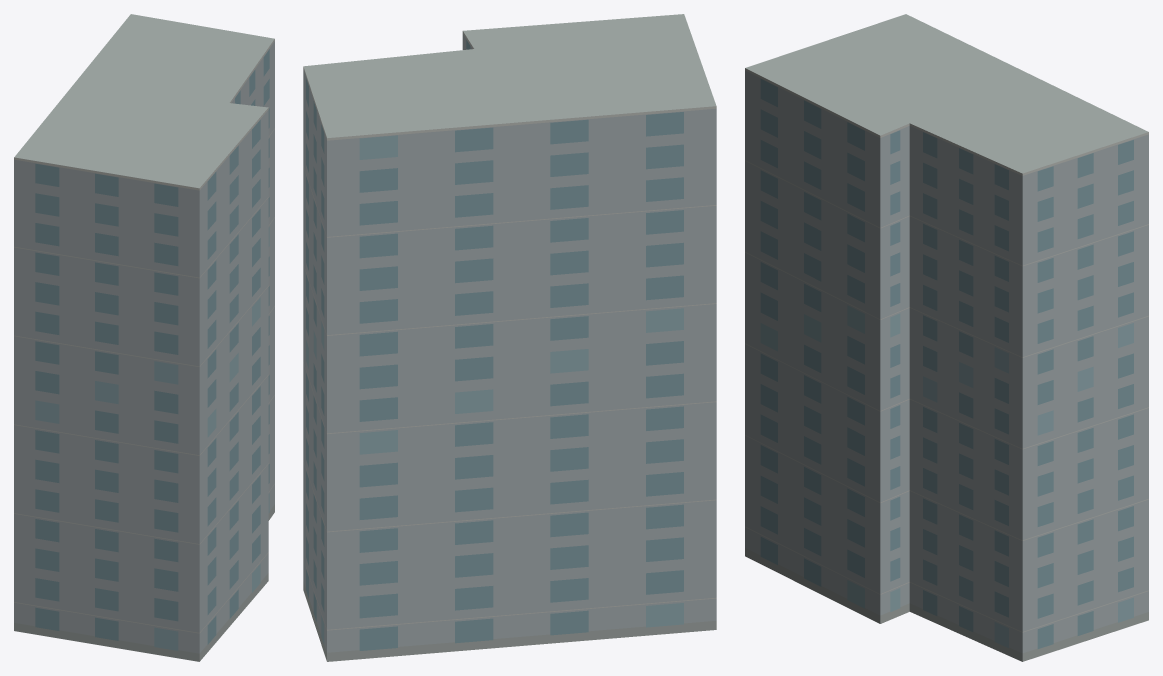
File: survey-upis-32719205.glb
The picture shows the model from 3 angles, left to right: view 1: azimuth 30°, elevation 25°; view 2: azimuth 150°, elevation 25°; view 3: azimuth 270°, elevation 25°; orthographic projection. The views are drawn at different scales.
Visible parts, largest first — view 1: survey-upis-32719205.tmp; view 2: survey-upis-32719205.tmp; view 3: survey-upis-32719205.tmp.
Boxes of the visible parts, bbox=[...] form: survey-upis-32719205.tmp: bbox=[14, 14, 274, 661]; survey-upis-32719205.tmp: bbox=[303, 14, 716, 661]; survey-upis-32719205.tmp: bbox=[745, 14, 1148, 661].
Bounding box in the file's own units: 35.03 × 49.95 × 37.45.
